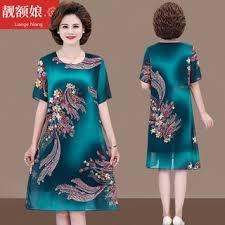dress: (24, 51, 127, 218), (126, 42, 215, 177)
